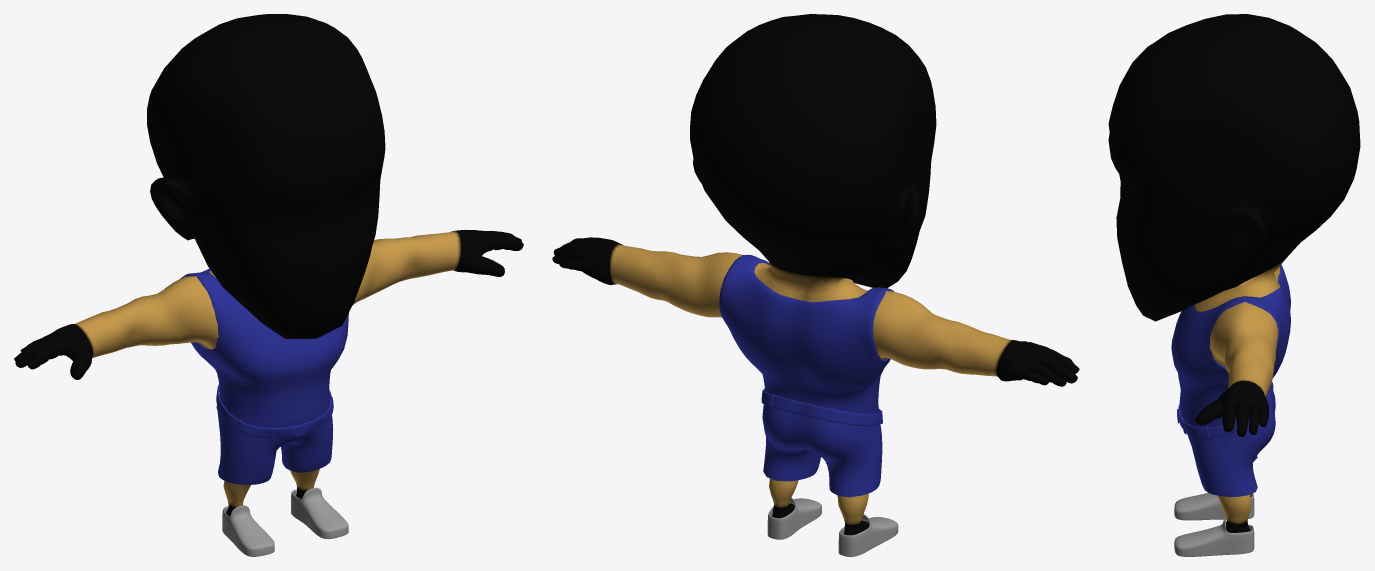
Rendered from character_03_Updated_.FBX.
The picture shows the model from 3 angles, left to right: view 1: azimuth 30°, elevation 25°; view 2: azimuth 150°, elevation 25°; view 3: azimuth 270°, elevation 25°; orthographic projection. The views are drawn at different scales.
Parts seen in each view (by area): view 1: body, shirt, shoes, belt; view 2: body, shirt, shoes, belt; view 3: body, shirt, shoes, belt.
Boxes of the visible parts, bbox=[...] form: body: bbox=[14, 14, 523, 516]; shirt: bbox=[180, 268, 348, 484]; shoes: bbox=[222, 487, 348, 556]; belt: bbox=[216, 384, 333, 438]; body: bbox=[552, 14, 1079, 535]; shirt: bbox=[719, 254, 894, 497]; shoes: bbox=[767, 497, 898, 556]; belt: bbox=[761, 389, 881, 425]; body: bbox=[1108, 14, 1360, 532]; shirt: bbox=[1171, 264, 1290, 496]; shoes: bbox=[1174, 492, 1254, 556]; belt: bbox=[1178, 382, 1273, 438].
Bounding box in the file's own units: 75.95 × 71.26 × 32.41.
